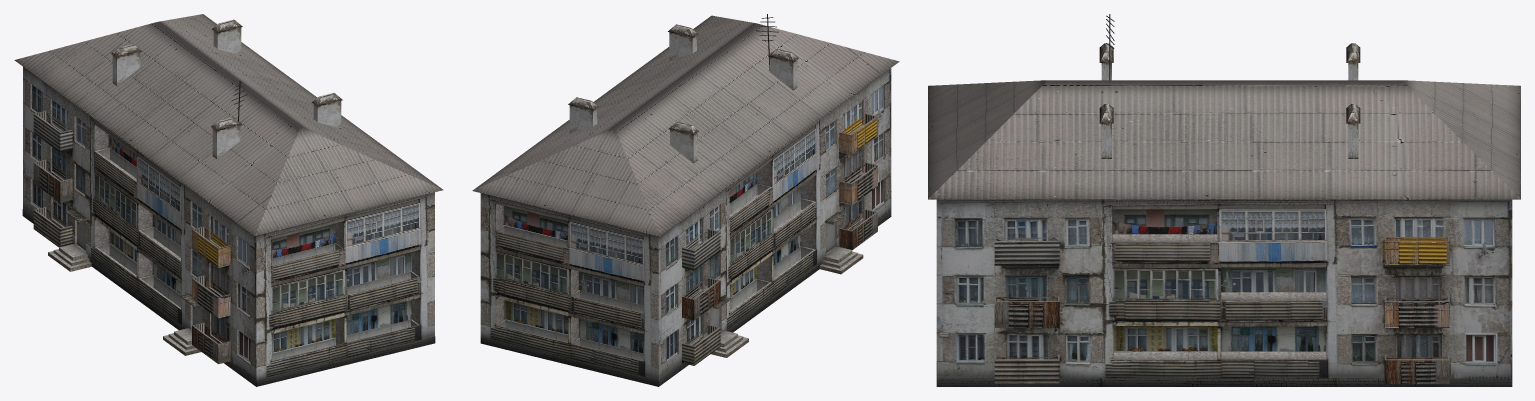
File: d_dom_3et.FBX
3 renders of one model, left to right at view 1: azimuth 30°, elevation 25°; view 2: azimuth 150°, elevation 25°; view 3: azimuth 270°, elevation 25°, orthographic. The views are drawn at different scales.
Visible parts, largest first — view 1: d_dom_3et; view 2: d_dom_3et; view 3: d_dom_3et.
Boxes of the visible parts, left/top/right/bottom form: d_dom_3et: left=14, top=14, right=443, bottom=386; d_dom_3et: left=472, top=14, right=899, bottom=386; d_dom_3et: left=928, top=14, right=1520, bottom=386.
Bounding box in the file's own units: 13.21 × 26.23 × 14.53.
